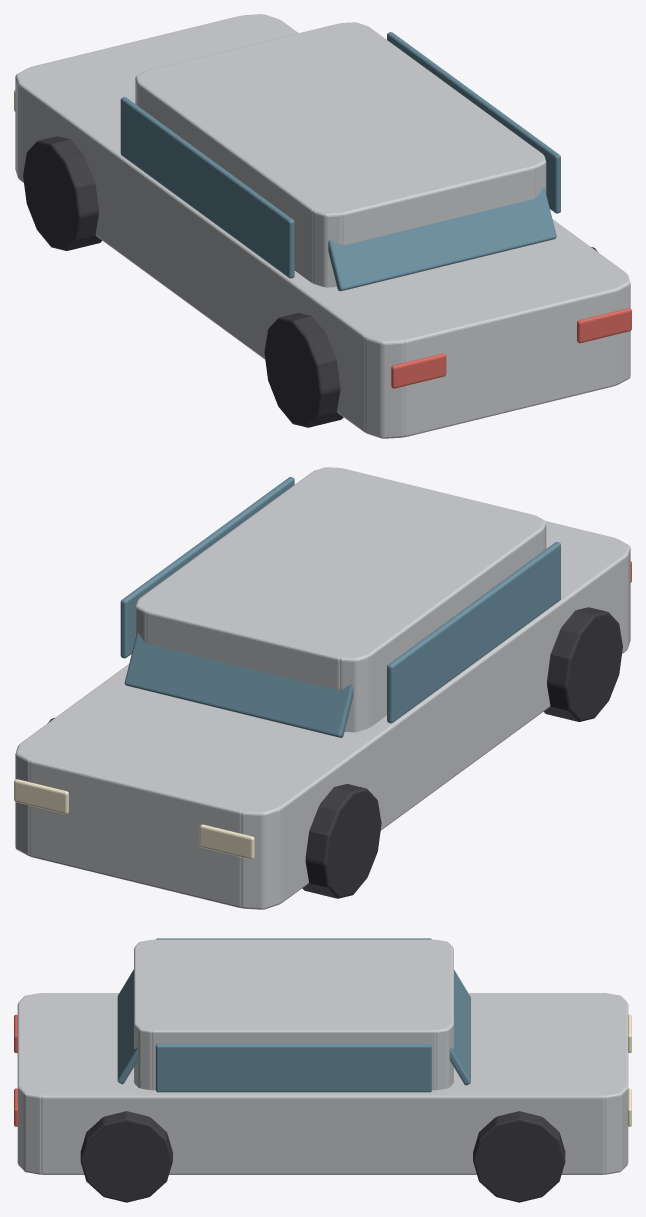
Rendered from Car.fbx.
3 renders of one model, top to bottom at view 1: azimuth 30°, elevation 25°; view 2: azimuth 150°, elevation 25°; view 3: azimuth 270°, elevation 25°, orthographic. The views are drawn at different scales.
Parts seen in each view (by area): view 1: Car; view 2: Car; view 3: Car.
Boxes of the visible parts, x1,y1,x2,y2 form: Car: (14,14,631,438); Car: (14,467,631,909); Car: (14,938,631,1202).
Size of the model in its own units: 196 by 120 by 425.
